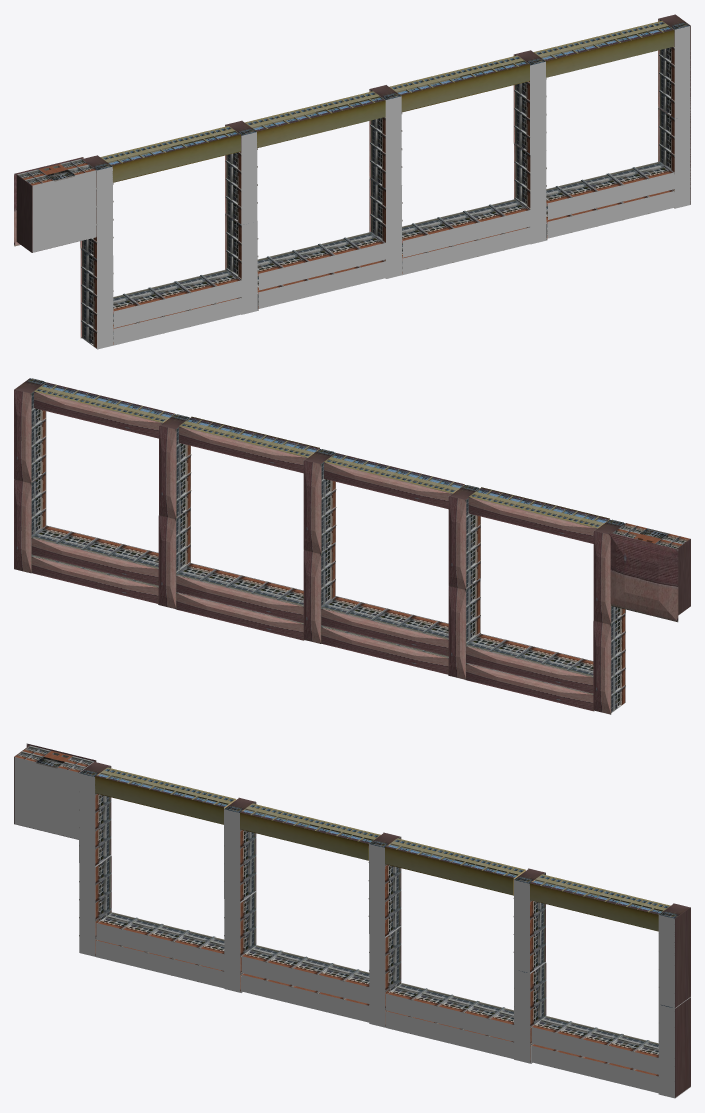
3 renders of one model, top to bottom at view 1: azimuth 30°, elevation 25°; view 2: azimuth 150°, elevation 25°; view 3: azimuth 330°, elevation 25°, orthographic.
Parts seen in each view (by area): view 1: 1.bina zemin.062, sarı bina zemin.031, 1.bina zemin.046, 1.bina zemin.055, sarı bina zemin.027, 1.bina zemin.044, sarı bina zemin.036, 1.bina zemin.052, sarı bina zemin.032, 1.bina zemin.054, 1.bina zemin.051, 1.bina zemin.043 (+30 smaller); view 2: 1.bina çatı.021, çatı sarı bina.056, çatı sarı bina.047, çatı sarı bina.048, çatı sarı bina.057, çatı sarı bina.046, çatı sarı bina.049, çatı sarı bina.055, çatı sarı bina.058, çatı sarı bina.054, çatı sarı bina.041, çatı sarı bina.045 (+30 smaller); view 3: 1.bina zemin.062, Cube.004, 1.bina zemin.043, 1.bina zemin.044, 1.bina zemin.047, 1.bina zemin.055, 1.bina zemin.051, sarı bina zemin.036, sarı bina zemin.031, 1.bina zemin.046, 1.bina zemin.054, 1.bina zemin.052 (+29 smaller).
Part boxes in pixels (box(x1,y1,x2,y2)): 1.bina zemin.062: box(32, 170, 96, 252); sarı bina zemin.031: box(401, 64, 529, 111); 1.bina zemin.046: box(403, 210, 531, 257); 1.bina zemin.055: box(259, 242, 387, 290); sarı bina zemin.027: box(546, 30, 674, 77); 1.bina zemin.044: box(402, 227, 530, 275); sarı bina zemin.036: box(112, 134, 240, 182); 1.bina zemin.052: box(113, 298, 241, 345); sarı bina zemin.032: box(257, 100, 385, 147); 1.bina zemin.054: box(114, 280, 242, 327); 1.bina zemin.051: box(259, 261, 385, 308); 1.bina zemin.043: box(548, 191, 674, 238); 1.bina çatı.021: box(608, 532, 678, 622); çatı sarı bina.056: box(465, 663, 594, 711); çatı sarı bina.047: box(175, 593, 304, 640); çatı sarı bina.048: box(176, 575, 303, 622); çatı sarı bina.057: box(466, 646, 593, 693); çatı sarı bina.046: box(31, 556, 158, 603); çatı sarı bina.049: box(31, 538, 158, 585); çatı sarı bina.055: box(321, 627, 448, 674); çatı sarı bina.058: box(321, 608, 448, 655); çatı sarı bina.054: box(468, 497, 597, 543); çatı sarı bina.041: box(34, 391, 162, 438); çatı sarı bina.045: box(179, 426, 307, 473); 1.bina zemin.062: box(14, 757, 78, 839); Cube.004: box(674, 907, 690, 1097); 1.bina zemin.043: box(531, 1045, 660, 1093); 1.bina zemin.044: box(385, 1011, 514, 1058); 1.bina zemin.047: box(531, 1027, 660, 1074); 1.bina zemin.055: box(241, 956, 370, 1004); 1.bina zemin.051: box(241, 975, 370, 1022); sarı bina zemin.036: box(95, 776, 223, 824); sarı bina zemin.031: box(385, 847, 513, 894); 1.bina zemin.046: box(386, 993, 514, 1041); 1.bina zemin.054: box(96, 923, 224, 970); 1.bina zemin.052: box(96, 940, 224, 988).
Size of the model in its own units: 12375 by 3258 by 554.
